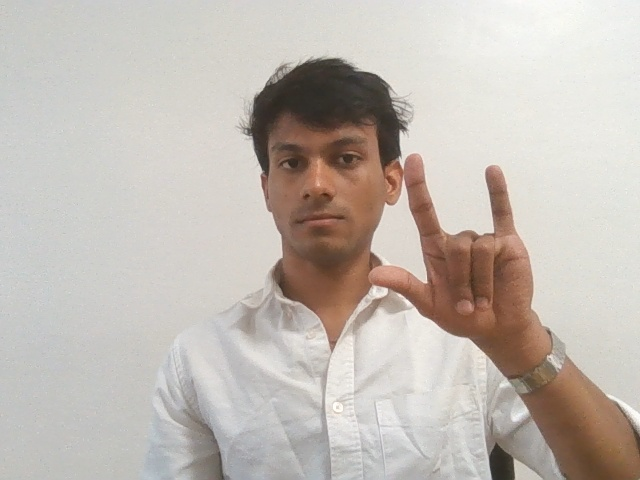ILoveYou: (368, 154, 551, 369)
